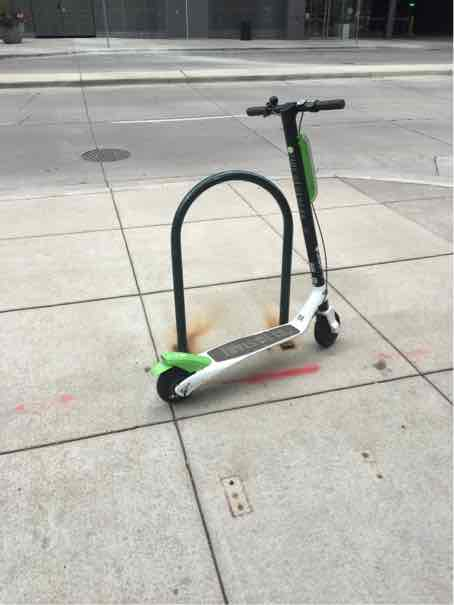scooter: (149, 84, 357, 403)
